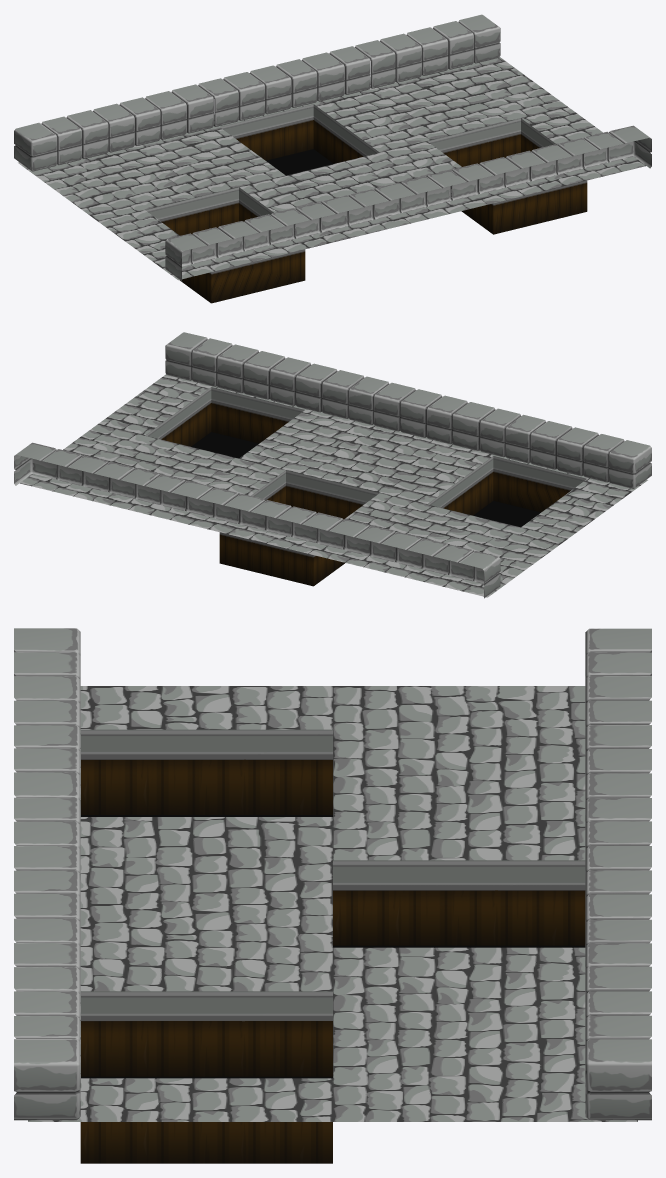
Rendered from mod_med_her_part_a_07.fbx.
3 renders of one model, top to bottom at view 1: azimuth 30°, elevation 25°; view 2: azimuth 150°, elevation 25°; view 3: azimuth 270°, elevation 25°, orthographic. The views are drawn at different scales.
Visible parts, largest first — view 1: mod_med_her_part_a_07; view 2: mod_med_her_part_a_07; view 3: mod_med_her_part_a_07.
Boxes of the visible parts, box(x1,y1,x2,y2) form: mod_med_her_part_a_07: box(14, 14, 651, 303); mod_med_her_part_a_07: box(14, 332, 651, 598); mod_med_her_part_a_07: box(14, 628, 651, 1163).
Size of the model in its own units: 180 by 27.9 by 111.
